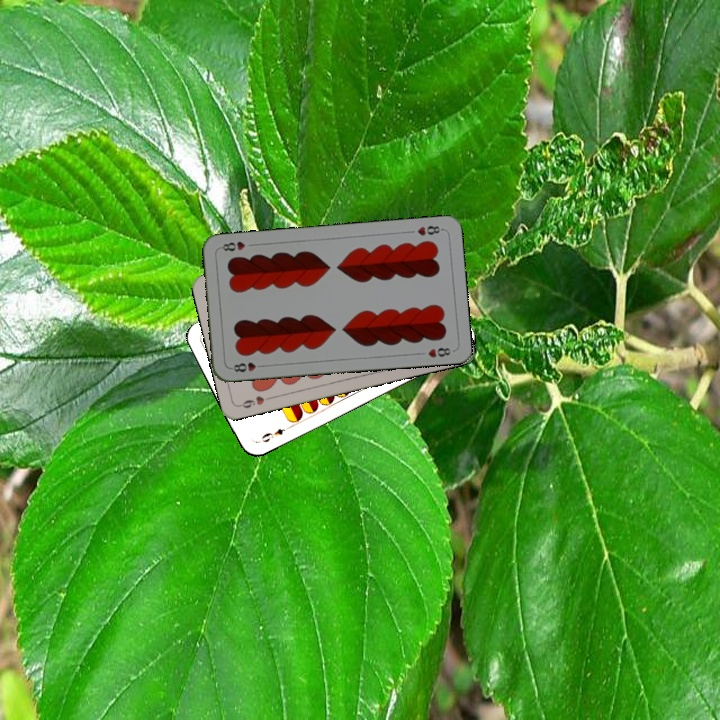E9: (254, 422, 293, 445)
H8: (227, 358, 267, 374), (413, 222, 445, 238)
H9: (235, 392, 275, 411)
